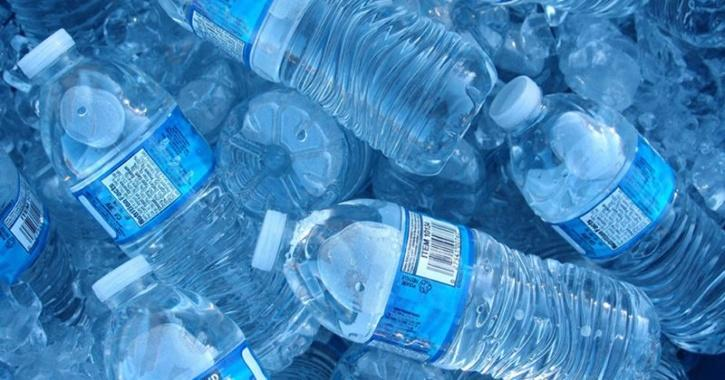plastic: (2, 37, 337, 335), (231, 179, 664, 377), (478, 82, 725, 357), (148, 0, 517, 147), (73, 256, 272, 380)
